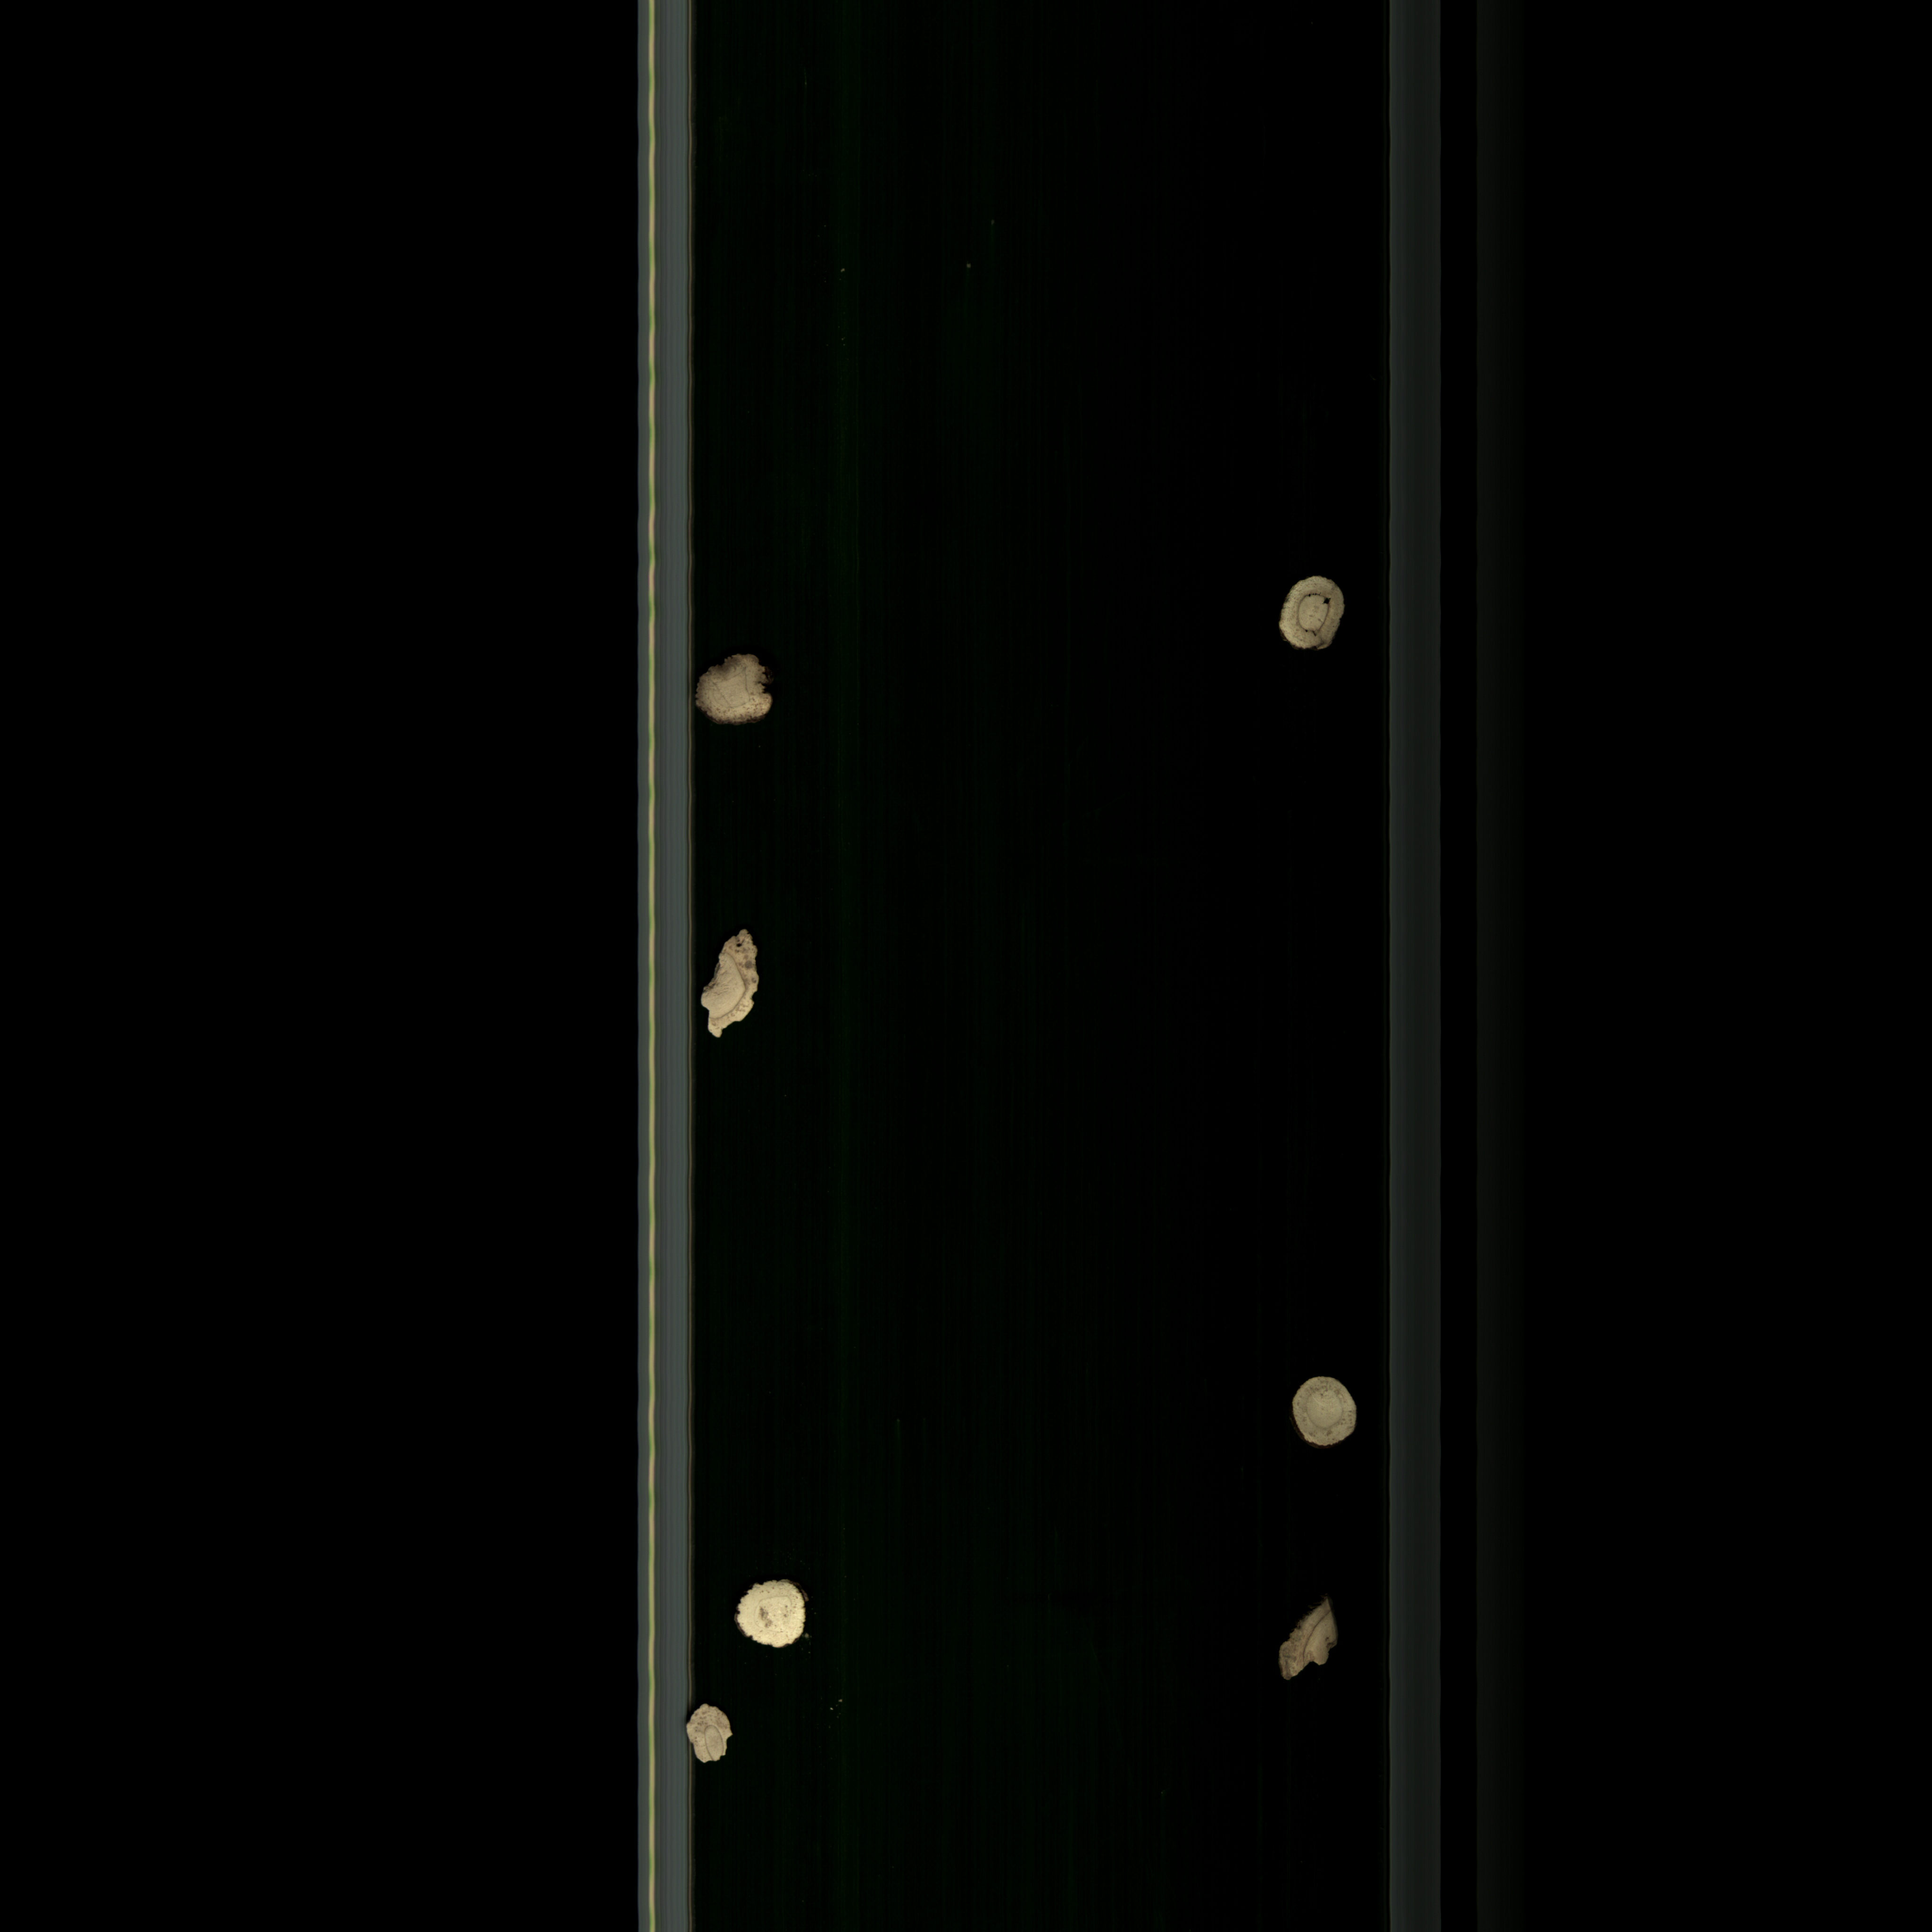debris: (697, 925, 782, 1046)
dreg: (678, 1695, 747, 1782)
moldy: (695, 644, 793, 734), (1267, 1589, 1353, 1690), (1269, 566, 1353, 665)
